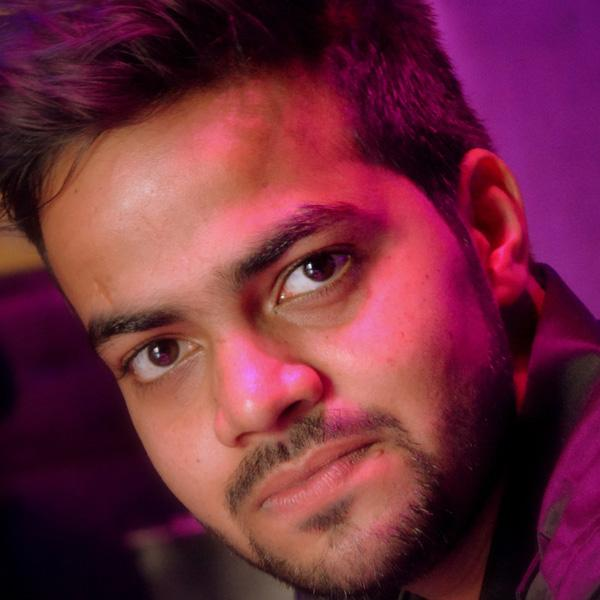Eyes: (264, 231, 369, 316), (115, 317, 211, 394)
